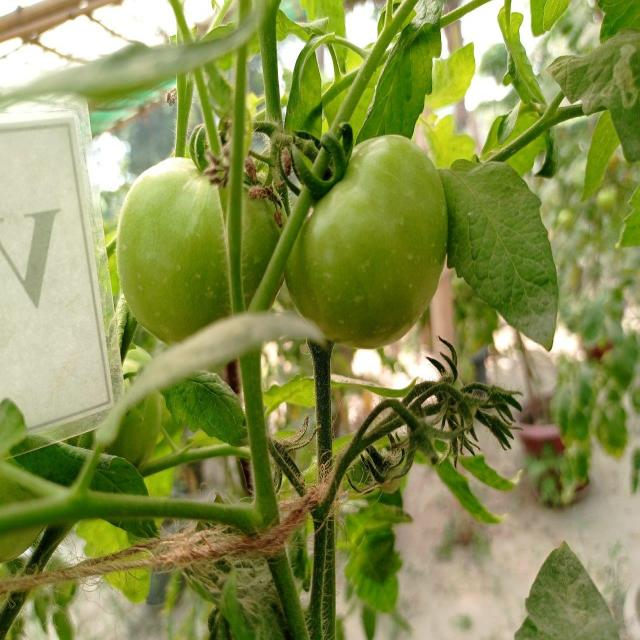Unripe: (286, 133, 449, 349), (114, 154, 278, 345)
